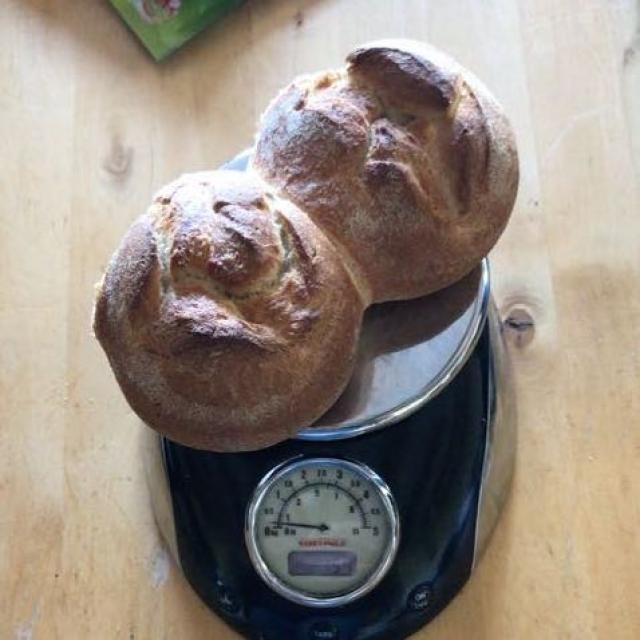bread-white: (105, 60, 513, 443)
